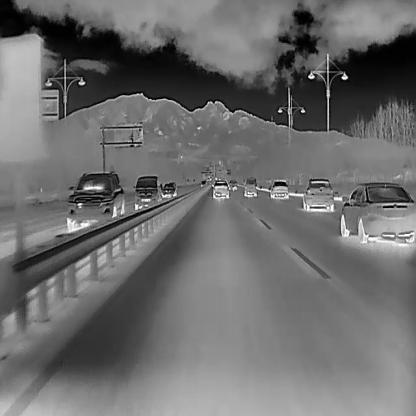car: (340, 182, 416, 243), (65, 170, 124, 231), (302, 178, 334, 212), (132, 174, 161, 210), (268, 179, 288, 199), (210, 180, 228, 199), (243, 176, 257, 197), (162, 183, 175, 197), (229, 179, 237, 190), (199, 178, 207, 187)
